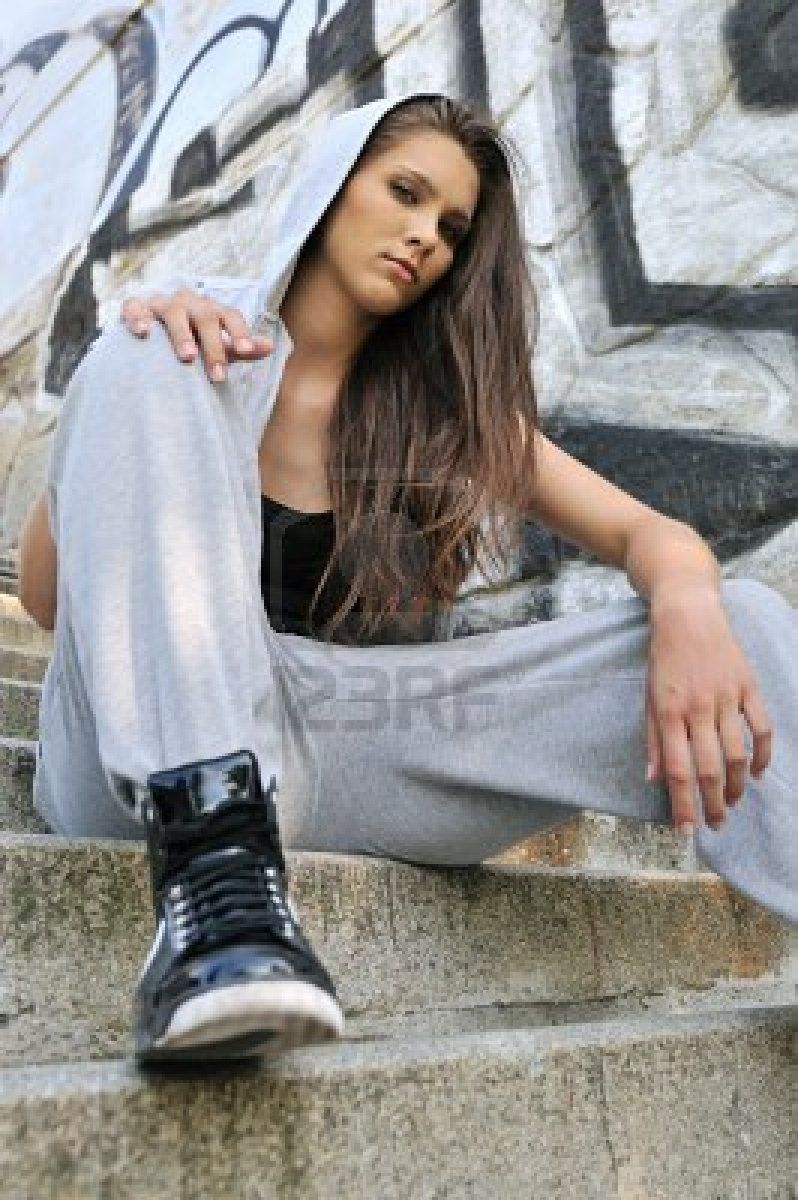person: (172, 105, 551, 580)
